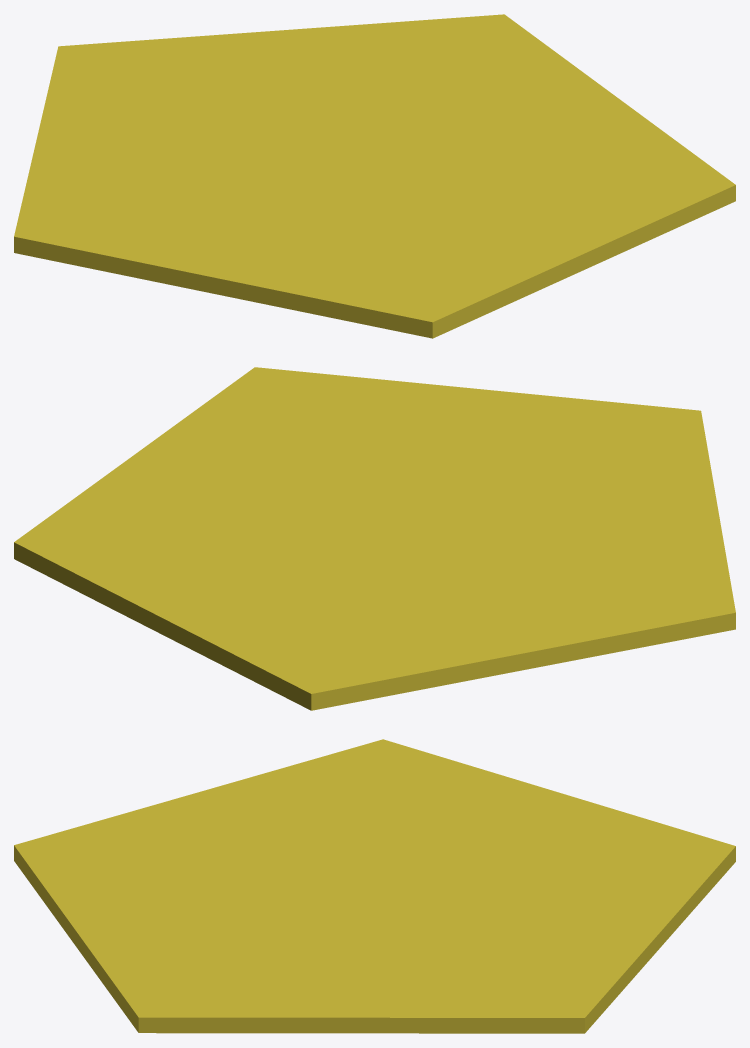
File: star2.dae
3 renders of one model, top to bottom at view 1: azimuth 30°, elevation 25°; view 2: azimuth 150°, elevation 25°; view 3: azimuth 270°, elevation 25°, orthographic. The views are drawn at different scales.
Visible parts, largest first — view 1: Cylinder; view 2: Cylinder; view 3: Cylinder.
Part boxes in pixels (left/top/right/bottom): Cylinder: left=14, top=14, right=735, bottom=338; Cylinder: left=14, top=367, right=735, bottom=710; Cylinder: left=14, top=739, right=735, bottom=1033.
Bounding box in the file's own units: 1.91 × 2.09 × 0.05.
